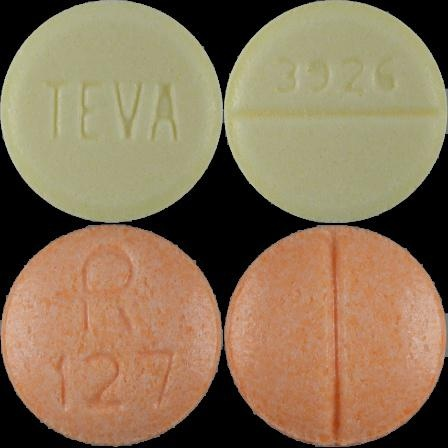68788-9208: (0, 0, 224, 224)
